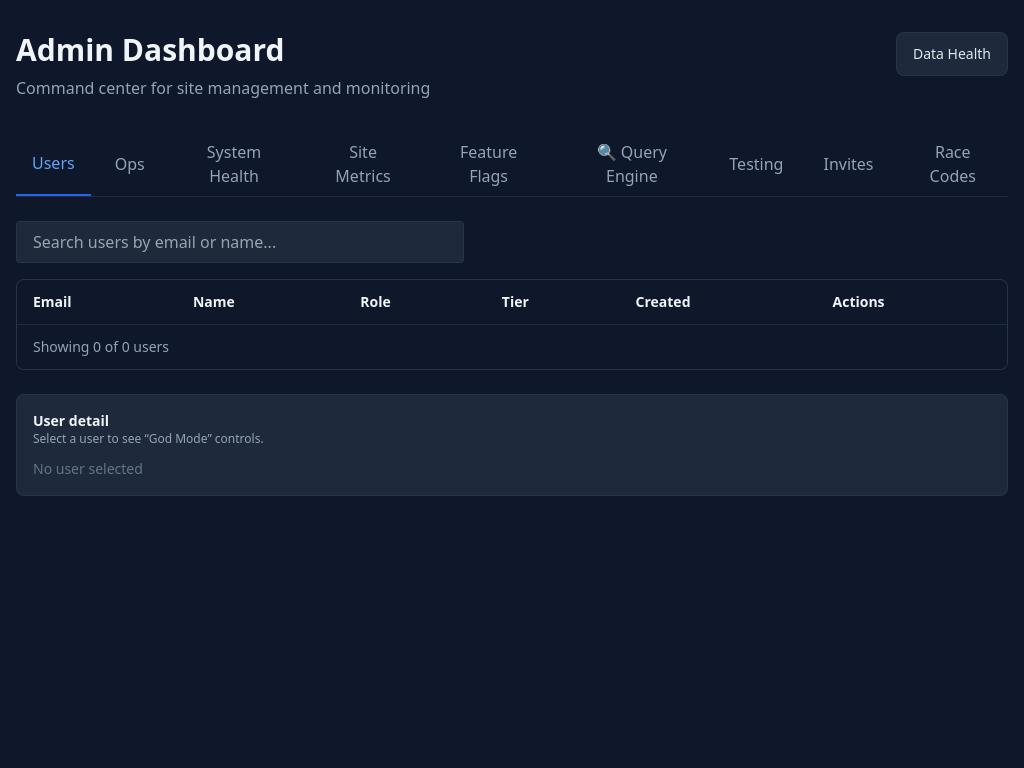
Admin ops visibility v0 › renders ops tab queue snapshot
Click the button "Ops": (130, 164) [99,132,161,196]
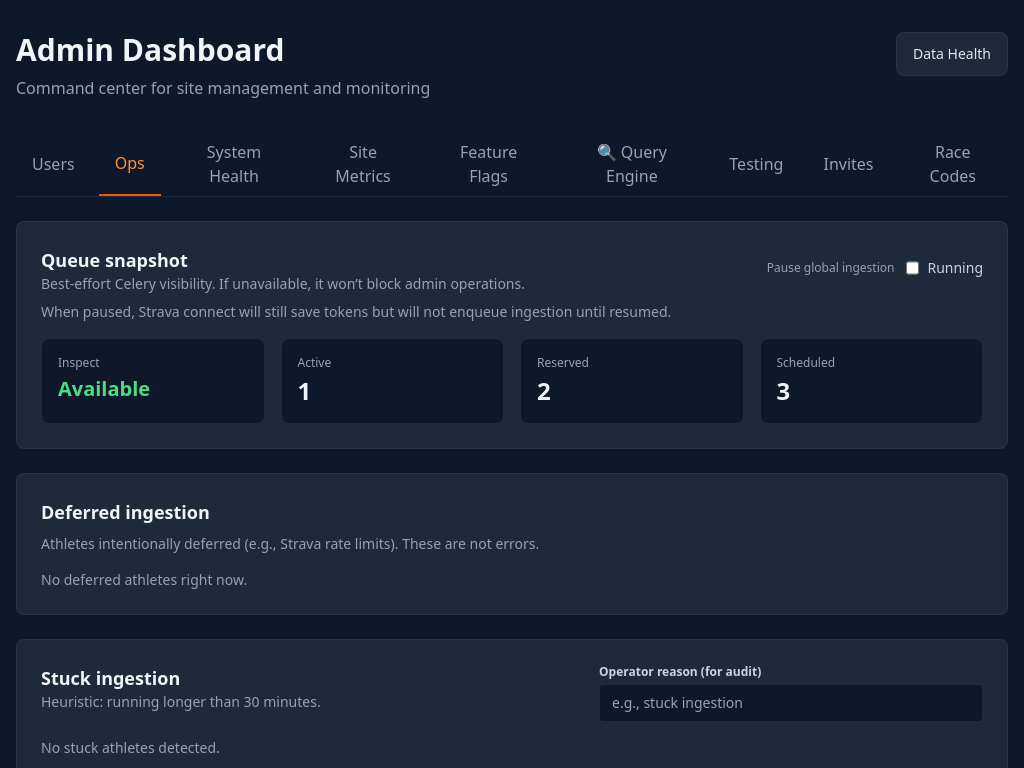
Now the heading "Queue snapshot" is shown, box [41,248,188,272]
Now the text "Active" is shown, box [298,354,331,371]
Now the text "Reserved" is shown, box [537,354,589,371]
